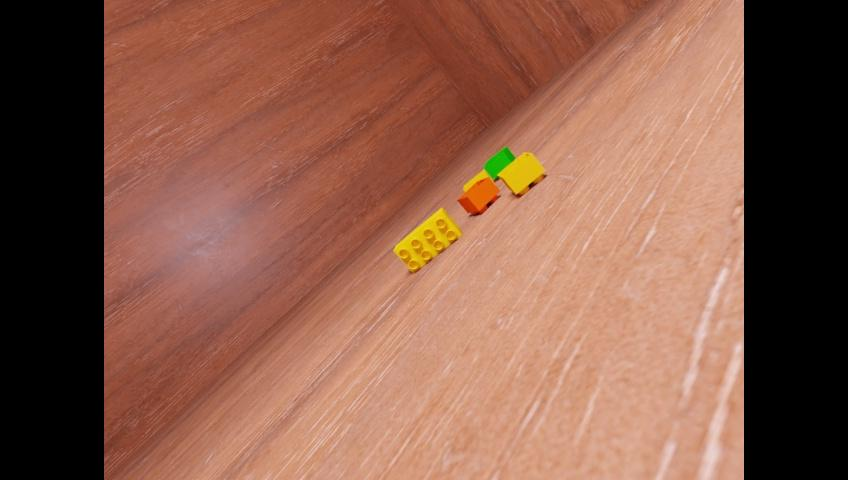2x2_green: (483, 145, 514, 179)
2x2_orange: (458, 177, 499, 215)
2x2_yellow: (498, 153, 545, 195), (463, 169, 495, 192)
4x2_yellow: (394, 207, 462, 272)
